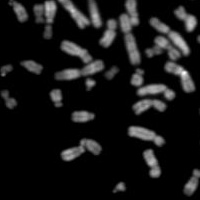chromosome: (150, 18, 190, 55), (119, 14, 140, 64), (54, 60, 103, 79), (163, 62, 194, 92), (57, 0, 89, 28), (129, 126, 165, 146), (61, 40, 91, 63), (78, 0, 102, 27), (155, 36, 180, 60), (175, 5, 197, 31), (137, 84, 175, 99), (132, 98, 165, 115), (143, 149, 161, 177), (99, 20, 116, 48), (184, 168, 200, 195), (8, 0, 27, 22), (61, 145, 84, 160), (80, 138, 101, 154), (20, 59, 42, 74), (125, 0, 138, 25), (1, 90, 17, 110), (71, 109, 94, 122), (44, 0, 57, 22), (130, 68, 144, 85), (50, 89, 62, 107), (33, 4, 43, 24), (146, 45, 161, 58), (104, 66, 118, 79), (112, 180, 125, 193), (84, 78, 95, 91), (1, 65, 12, 77), (43, 25, 52, 39), (198, 34, 200, 53)
